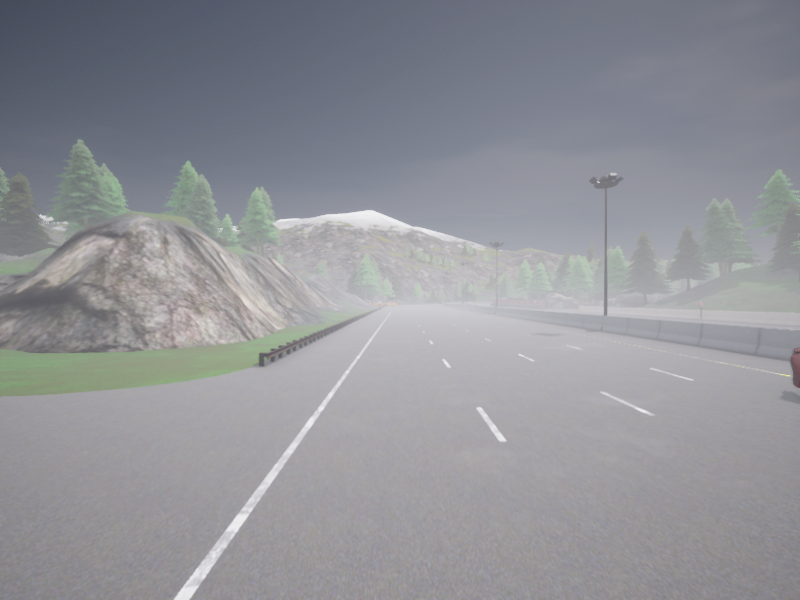vehicle: (790, 347, 799, 387), (466, 301, 471, 304), (474, 304, 478, 305)
